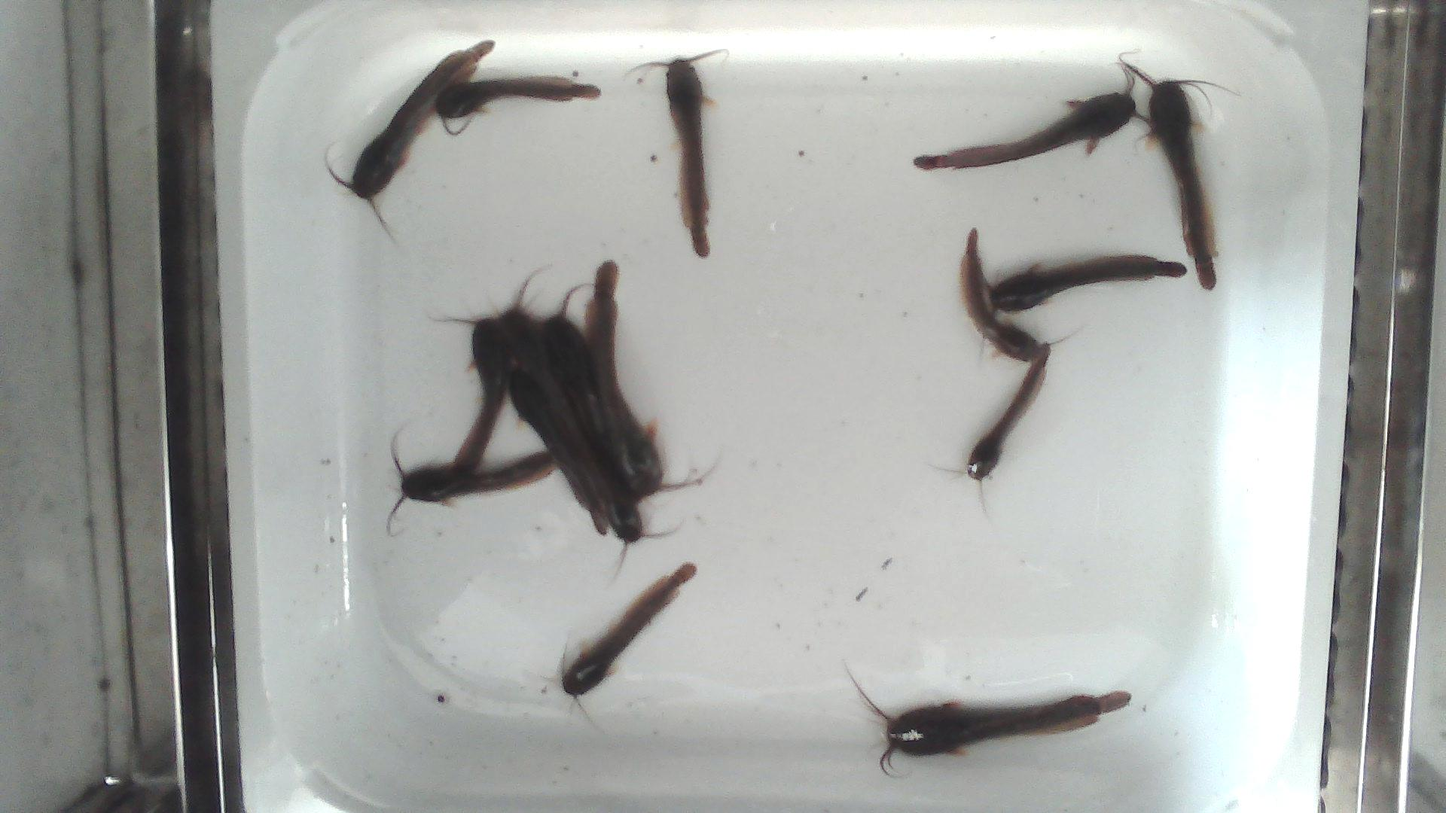lele: (328, 41, 494, 233), (580, 260, 697, 506), (853, 679, 1130, 780), (500, 265, 606, 491), (914, 68, 1141, 169), (623, 49, 727, 260), (1121, 61, 1216, 289), (563, 563, 695, 696), (577, 415, 683, 577), (385, 442, 559, 538), (507, 370, 606, 536), (532, 281, 603, 464), (433, 314, 511, 472), (968, 344, 1048, 480), (992, 255, 1186, 311), (960, 230, 1040, 361), (436, 77, 599, 118)
